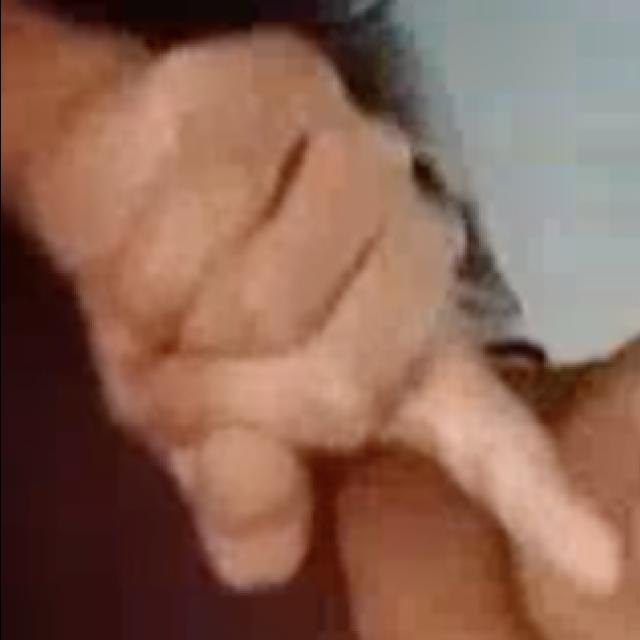Z: (5, 20, 633, 617)
